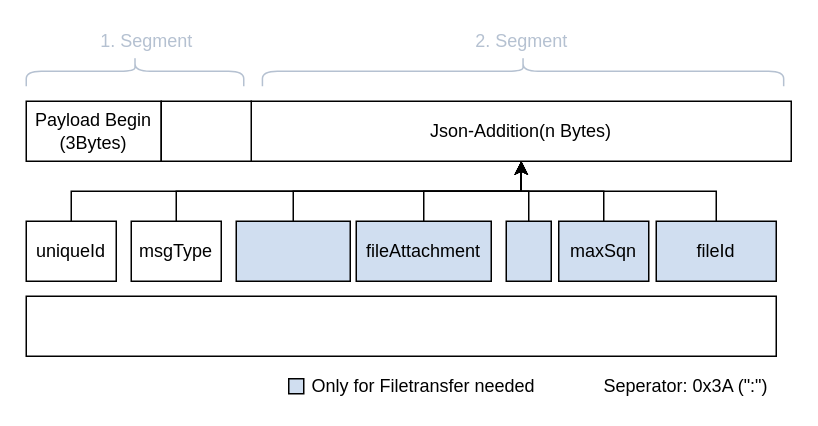
Image size: 818x426. Some labels were removed from this diagram. Here are the shapes that lost their labels. From the top down, the box of each, then its label:
(160, 100, 251, 161): Seperator (1Byte)
(235, 220, 350, 281): fileExtension
(505, 220, 551, 281): sqn
(25, 295, 776, 356): Payload
